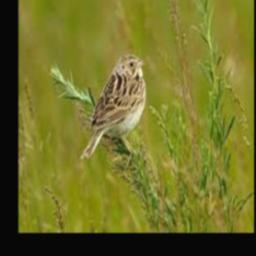Sparrow: (79, 54, 146, 161)
